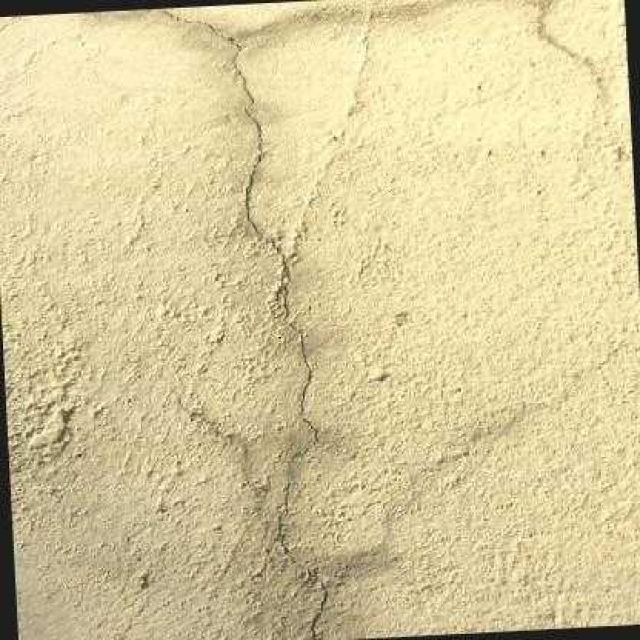D00: (144, 8, 329, 640)
